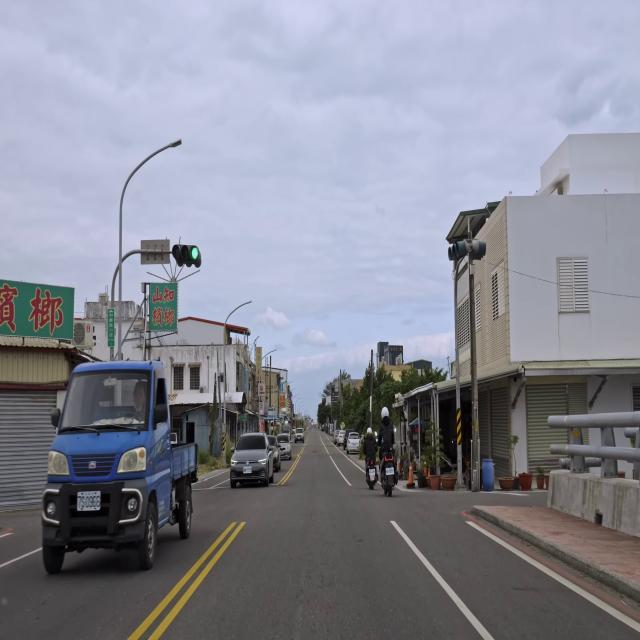green light: (172, 243, 201, 269)
